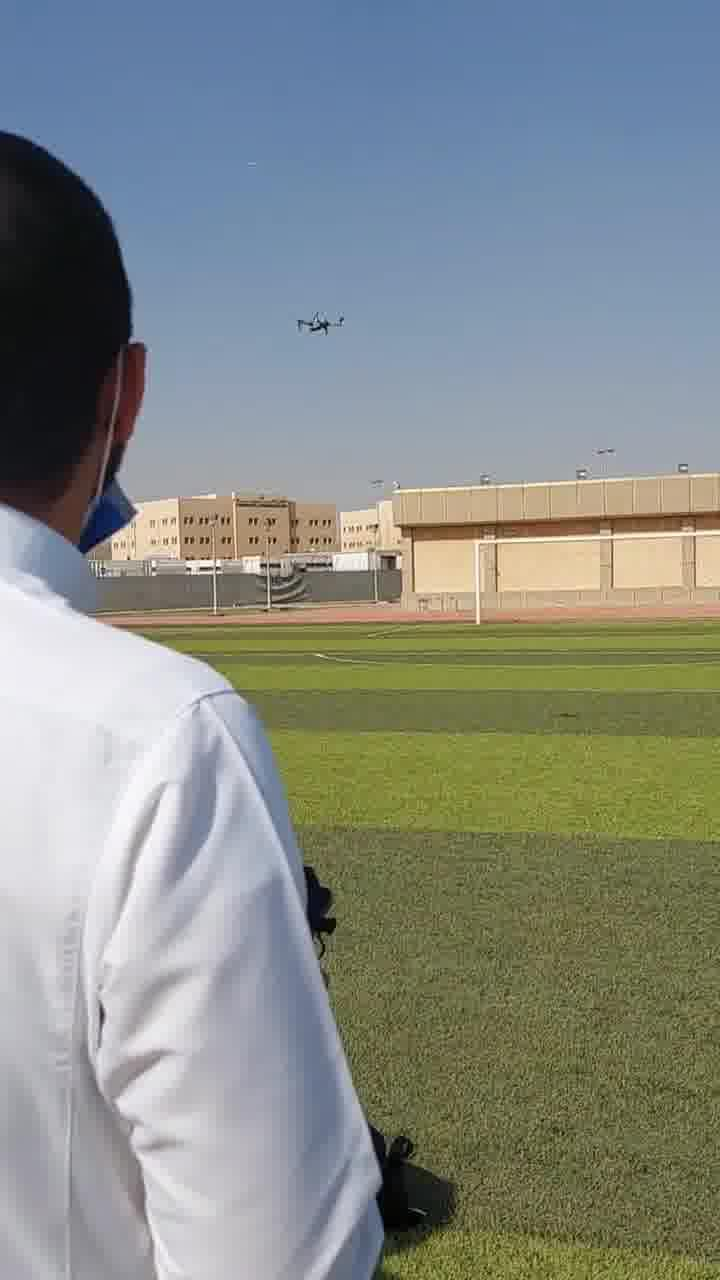drone: (290, 298, 342, 340)
